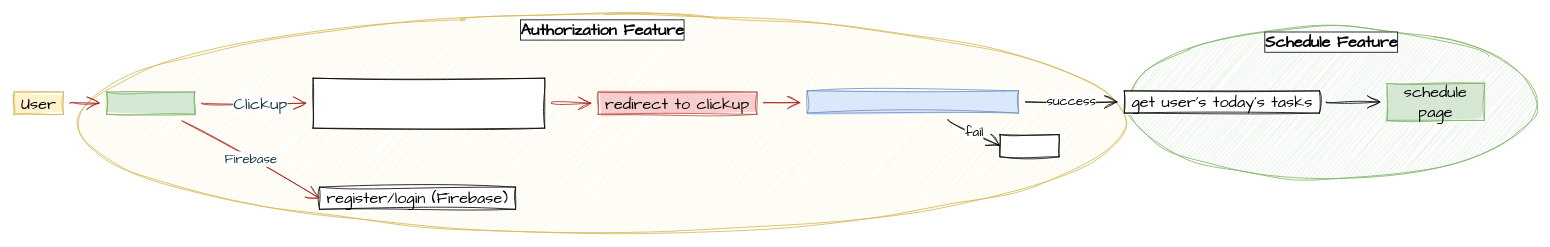
Some shapes in this 1550 by 247 pixel diagram are drawn without their labels. The shapes that lost their labels are listed below. From the top down, each one's centre as x and y in pixels, then its label:
At point 150,102: "Auth page".
At point 428,102: "explain how to get client_id and secret for a specific workspace".
At point 912,101: "enter client_id and secret".
At point 1029,145: "error".
